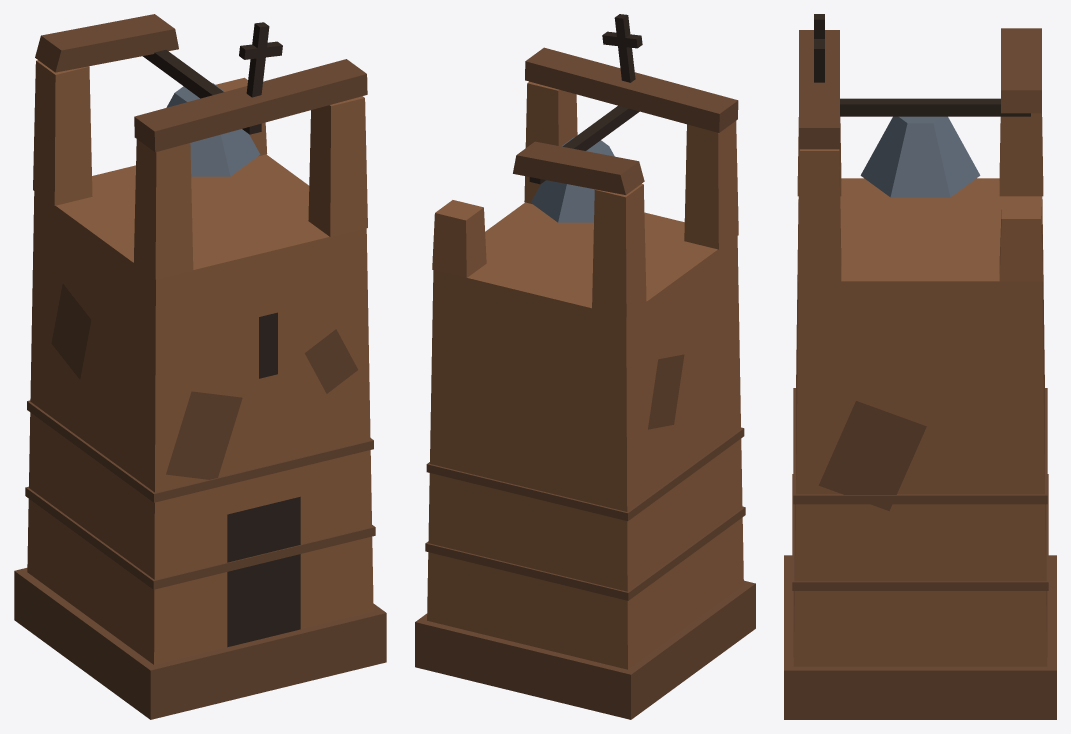
File: torre.glb
3 renders of one model, left to right at view 1: azimuth 30°, elevation 25°; view 2: azimuth 150°, elevation 25°; view 3: azimuth 270°, elevation 25°, orthographic. The views are drawn at different scales.
Visible parts, largest first — view 1: torre, sino; view 2: torre, sino; view 3: torre, sino.
Part boxes in pixels (bbox=[...]): torre: bbox=[14, 14, 386, 719]; sino: bbox=[143, 49, 261, 176]; torre: bbox=[415, 14, 755, 719]; sino: bbox=[529, 105, 639, 222]; torre: bbox=[784, 14, 1056, 719]; sino: bbox=[840, 98, 1030, 197].
Size of the model in its own units: 2 by 5.27 by 2.
